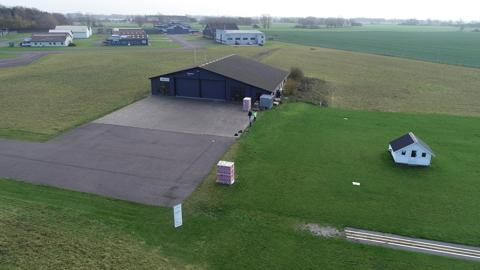RockwoolPallet: (216, 160, 236, 186)
